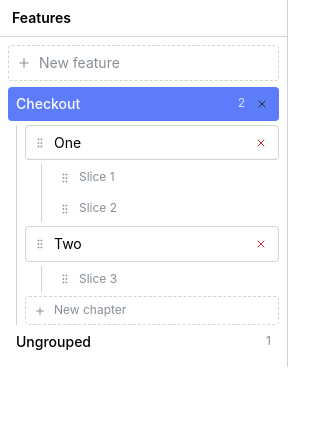
Test: FeatureNavigator › toggling a chapter off removes it from the selection
This screenshot has width=320, height=431.
Click the element with test id "chapter-row-c1": (152, 143) [25, 125, 279, 160]
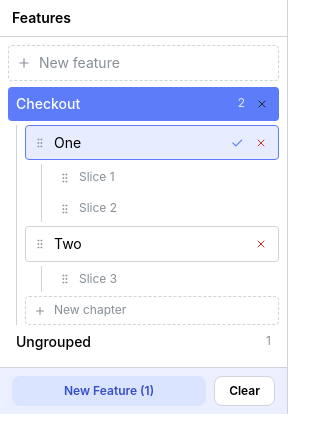
Click the element with test id "chapter-row-c1": (152, 143) [25, 125, 279, 160]
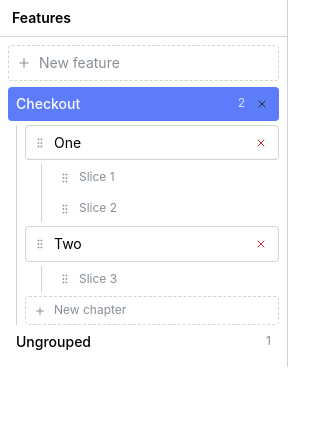
Expected: the button with test id "new-feature-from-selection" is gone
